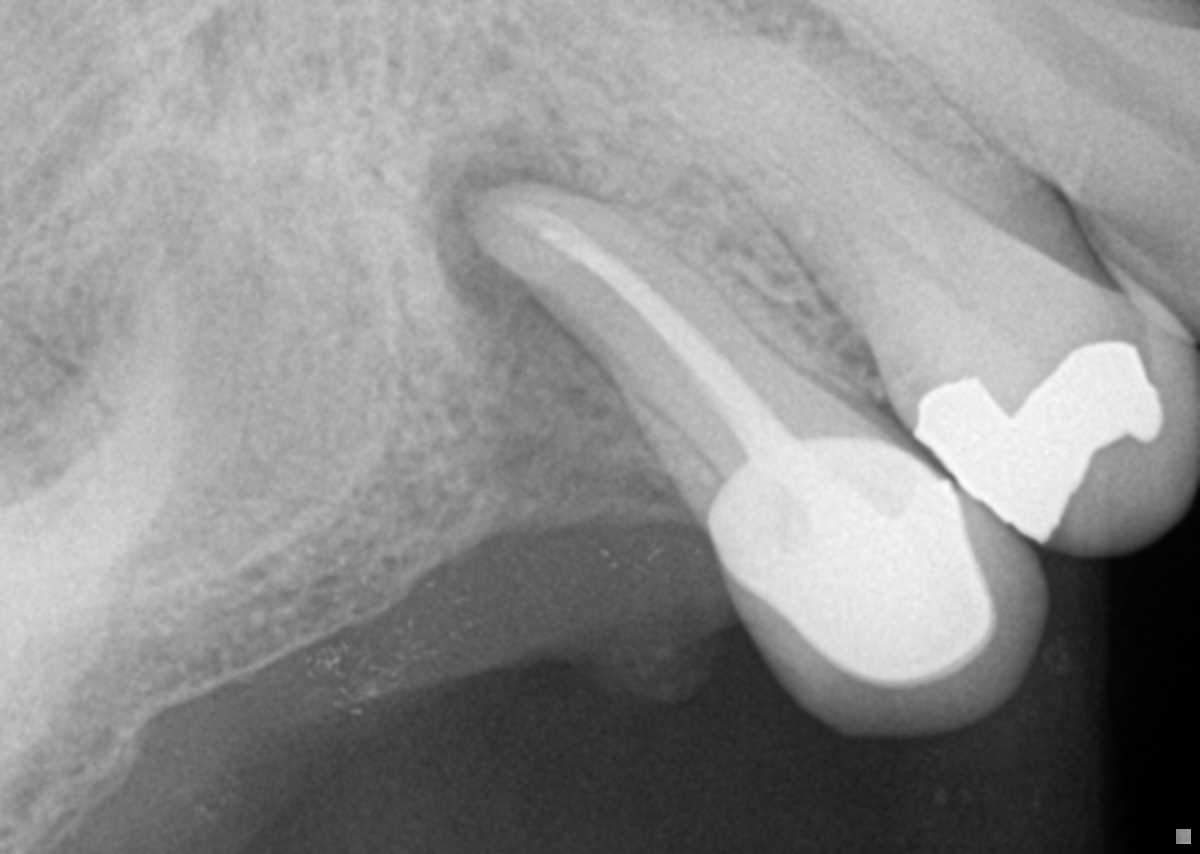Apical Lesion: (425, 135, 639, 493)
Main Canal: (744, 90, 971, 313), (978, 0, 1186, 130)
Main Root: (589, 0, 1022, 370), (469, 181, 874, 501), (836, 0, 1200, 205)
Root Canal Filling: (497, 196, 799, 466)
